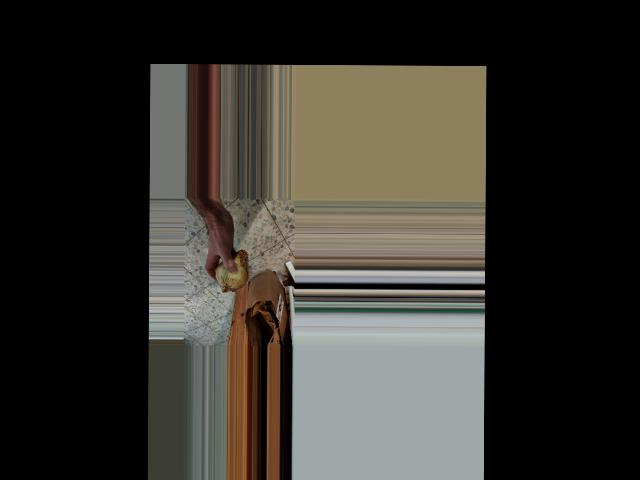onion: (210, 246, 251, 294)
